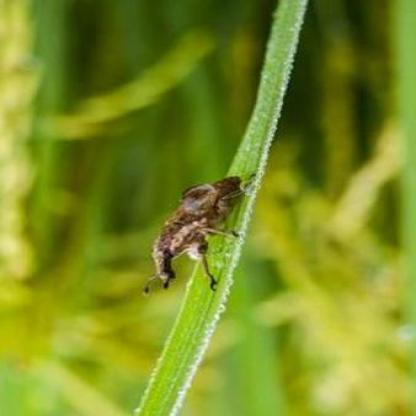rice-bug: (147, 170, 253, 296)
